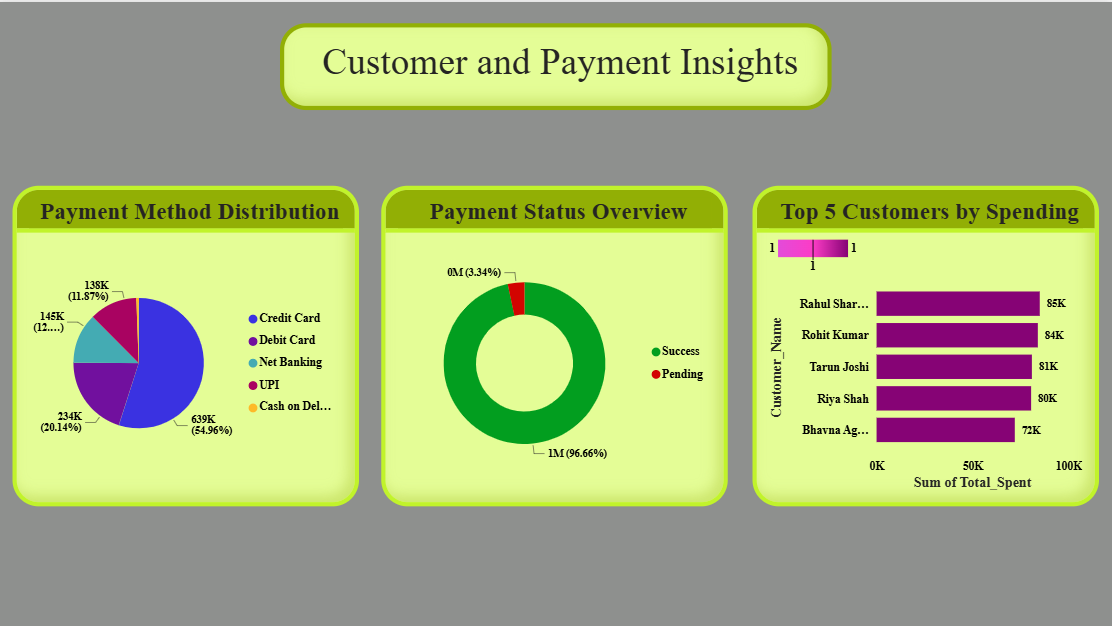

The dashboard page shown, as its layout file describes it:
{"tool":"powerbi","page":{"name":"Customer and Payment Insights","canvas":[1280,720],"ordinal":2},"visuals":[{"type":"textbox","box":[325,24.1,630.2,99.4],"z":0},{"type":"pieChart","title":"Payment Method Distribution","fields":{"Y":["Sum(payments.amount)"],"Category":["orders.payment_method"]},"box":[19.9,210.1,396,366.2],"z":1000},{"type":"donutChart","title":"Payment Status Overview","fields":{"Category":["payments.payment_status"],"Y":["Sum(payments.amount)"]},"box":[441.4,210.1,396,366.2],"z":2000},{"type":"barChart","title":"Top 5 Customers by Spending","fields":{"Category":["customer_sales.Customer_Name"],"Y":["Sum(customer_sales.Total_Spent)"]},"box":[865.8,210.1,396,366.2],"z":3000}]}

Visuals, with their boxes in screenshot pixels (x1, y1, x2, y2), scaled from the page's 1280x720 canvas onto the 1112x626 screenshot:
textbox: {"left": 282, "top": 21, "right": 830, "bottom": 107}
"Payment Method Distribution" pieChart: {"left": 17, "top": 183, "right": 361, "bottom": 501}
"Payment Status Overview" donutChart: {"left": 383, "top": 183, "right": 727, "bottom": 501}
"Top 5 Customers by Spending" barChart: {"left": 752, "top": 183, "right": 1096, "bottom": 501}
